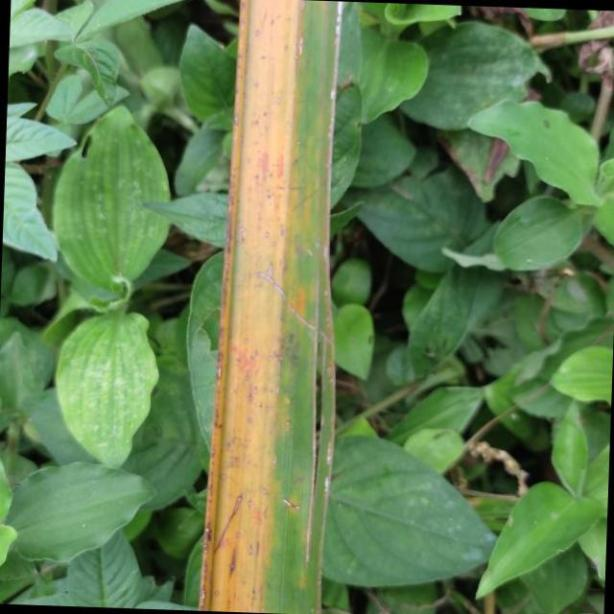Megnesium: (198, 0, 342, 614)
